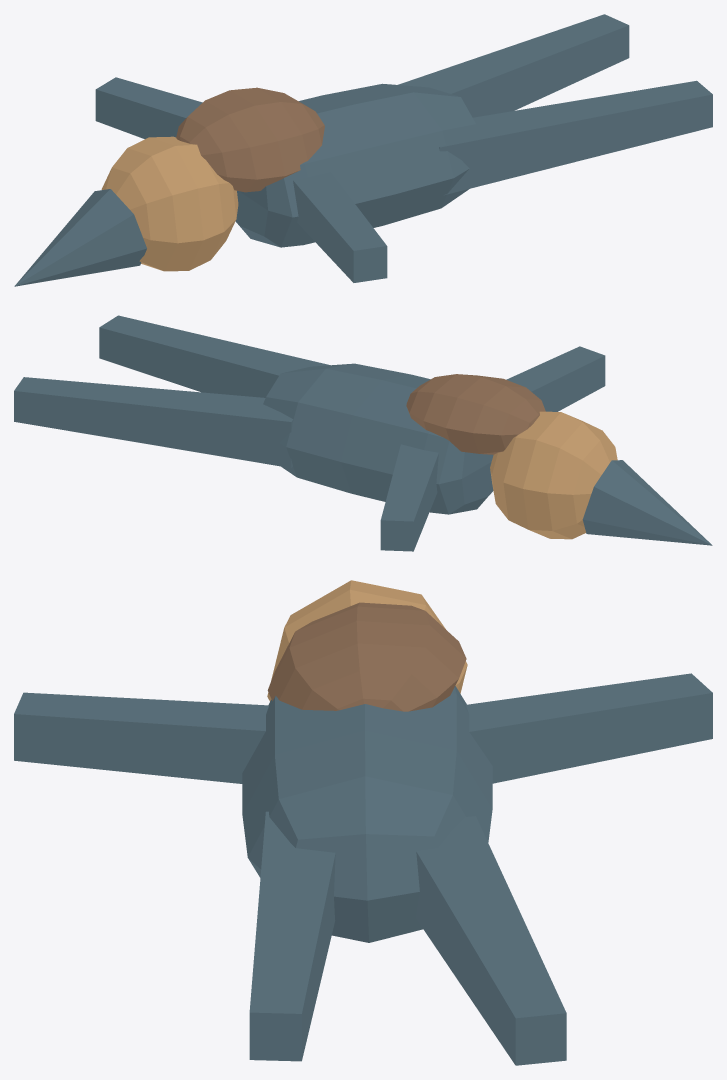
The model's file is goliath.glb.
The picture shows the model from 3 angles, top to bottom: view 1: azimuth 30°, elevation 25°; view 2: azimuth 150°, elevation 25°; view 3: azimuth 270°, elevation 25°; orthographic projection. The views are drawn at different scales.
Visible parts, largest first — view 1: Cube.041, Cube.055, Sphere.005, Cube.054, Sphere.006, Cone.038, Cube.052, Cube.053; view 2: Cube.041, Cube.054, Sphere.005, Cube.055, Sphere.006, Cone.038, Cube.053, Cube.052; view 3: Cube.041, Cube.054, Cube.052, Cube.053, Sphere.006, Cube.055, Sphere.005.
Boxes of the visible parts, x1,y1,x2,y2 form: Cube.041: (235, 83, 478, 247); Cube.055: (439, 80, 712, 195); Sphere.005: (101, 136, 238, 271); Cube.054: (398, 14, 629, 117); Sphere.006: (176, 87, 324, 192); Cone.038: (14, 189, 146, 286); Cube.052: (293, 172, 387, 282); Cube.053: (95, 77, 202, 138); Cube.041: (263, 363, 493, 514); Cube.054: (14, 377, 293, 467); Sphere.005: (490, 411, 617, 539); Cube.055: (99, 315, 330, 397); Sphere.006: (406, 374, 545, 454); Cone.038: (582, 460, 712, 545); Cube.053: (380, 444, 438, 551); Cube.052: (506, 346, 605, 411); Cube.041: (242, 686, 492, 942); Cube.054: (416, 816, 566, 1065); Cube.052: (14, 692, 268, 783); Cube.053: (466, 673, 712, 783); Sphere.006: (267, 602, 466, 711); Cube.055: (249, 811, 335, 1061); Sphere.005: (267, 580, 467, 701).
Bounding box in the file's own units: 0.2535 × 0.0518 × 0.1574.
